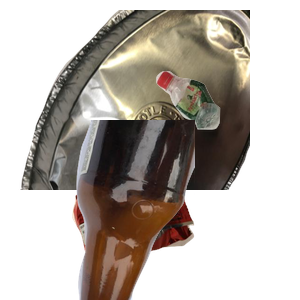glass: (60, 120, 300, 300)
metal: (18, 10, 258, 190)
plastic: (153, 68, 300, 190)
trash: (70, 162, 257, 300)
